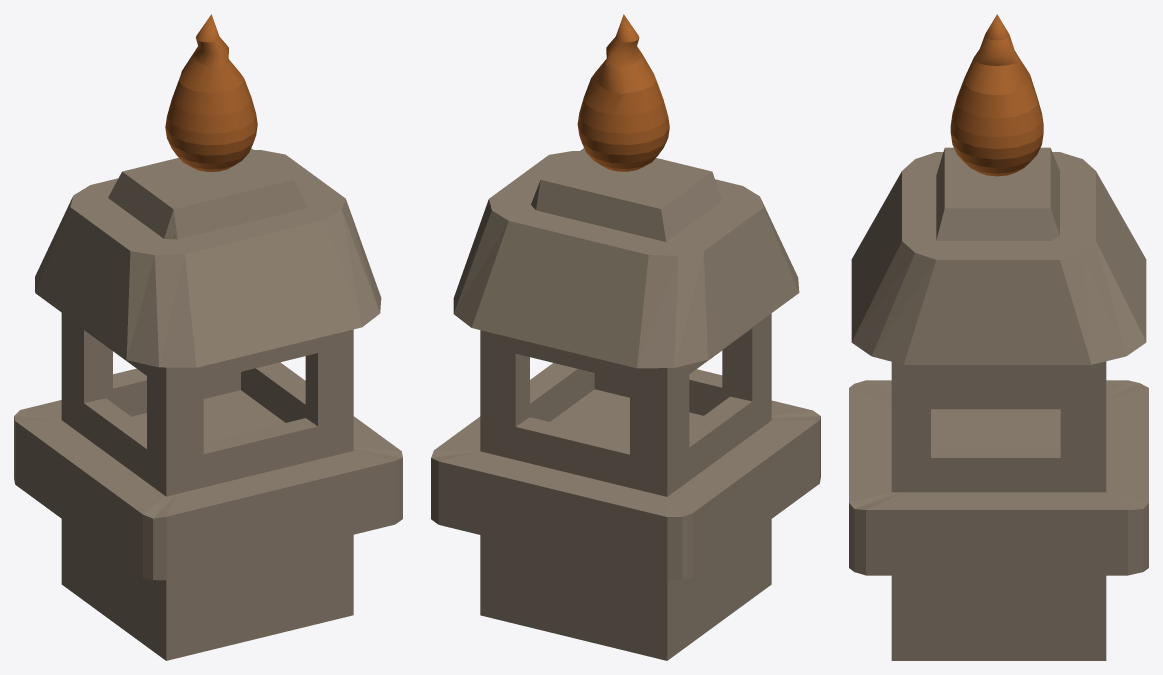
Rendered from magic turret textured.fbx.
3 renders of one model, left to right at view 1: azimuth 30°, elevation 25°; view 2: azimuth 150°, elevation 25°; view 3: azimuth 270°, elevation 25°, orthographic. The views are drawn at different scales.
Visible parts, largest first — view 1: pCube1, pSphere2; view 2: pCube1, pSphere2; view 3: pCube1, pSphere2.
Part boxes in pixels (x1,y1,x2,y2): pCube1: (14, 148, 402, 660); pSphere2: (165, 14, 257, 171); pCube1: (431, 148, 820, 660); pSphere2: (577, 14, 669, 171); pCube1: (849, 147, 1148, 660); pSphere2: (950, 14, 1043, 176).
Size of the model in its own units: 32.27 by 69.72 by 31.5.
